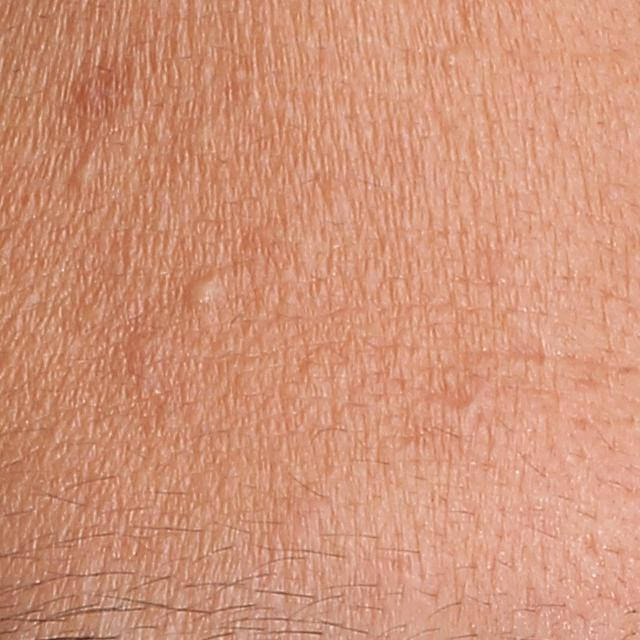comedo: (178, 273, 236, 311), (64, 158, 102, 191), (443, 51, 458, 71)
